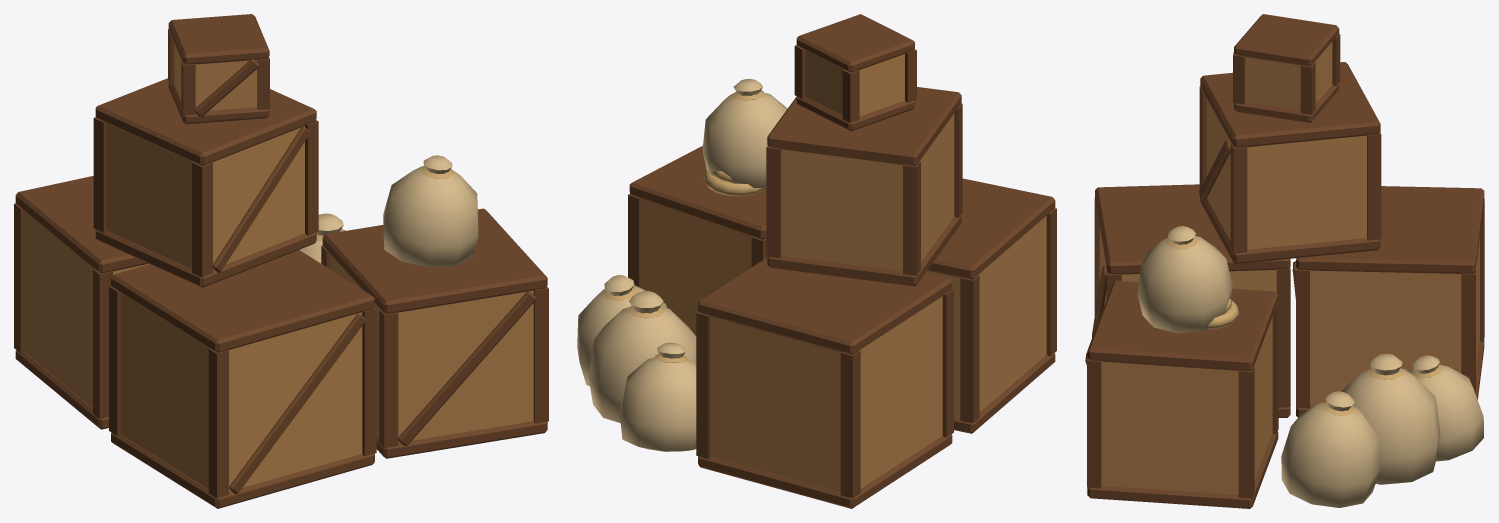
The model's file is prop_crate_stack.glb.
3 renders of one model, left to right at view 1: azimuth 30°, elevation 25°; view 2: azimuth 150°, elevation 25°; view 3: azimuth 270°, elevation 25°, orthographic. The views are drawn at different scales.
Parts seen in each view (by area): view 1: CrateStack; view 2: CrateStack; view 3: CrateStack.
Boxes of the visible parts, bbox=[...] form: CrateStack: bbox=[14, 14, 548, 508]; CrateStack: bbox=[577, 14, 1056, 508]; CrateStack: bbox=[1085, 14, 1484, 508].
Size of what is drawn, in the model's own units: 2.02 by 2.02 by 2.
